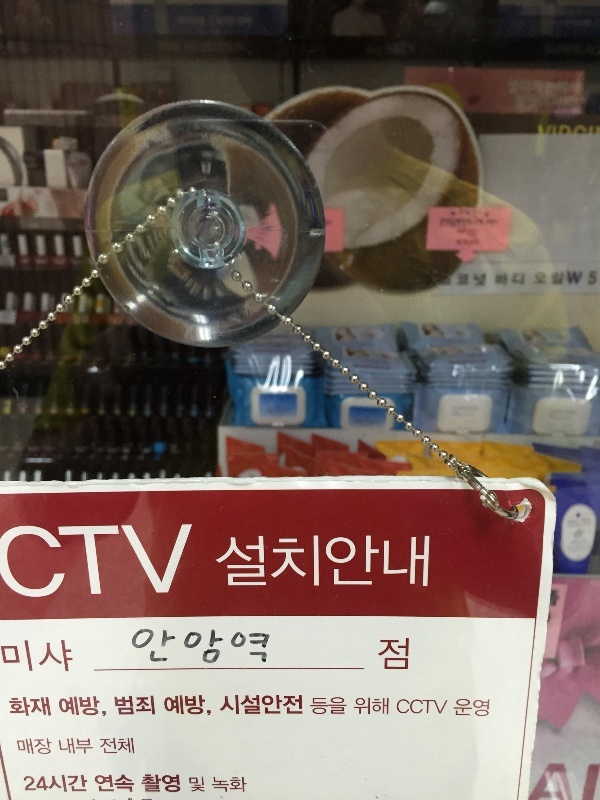text: (1, 522, 16, 605), (17, 522, 32, 605), (33, 522, 48, 605), (49, 522, 64, 605), (65, 522, 80, 605), (81, 522, 96, 605), (97, 522, 112, 605), (113, 522, 128, 605), (129, 522, 144, 605), (145, 522, 160, 605), (161, 522, 176, 605), (177, 522, 192, 605), (241, 533, 256, 597), (257, 533, 272, 597), (273, 533, 288, 597), (289, 533, 304, 597), (305, 533, 320, 597), (321, 533, 336, 597), (337, 533, 352, 597), (353, 533, 368, 597), (369, 533, 384, 597), (385, 533, 400, 597), (401, 533, 416, 597), (417, 533, 432, 597), (145, 625, 160, 672), (161, 625, 176, 672), (177, 625, 192, 672), (193, 625, 208, 672), (209, 625, 224, 672), (225, 625, 240, 672), (241, 625, 256, 672), (257, 625, 272, 672), (229, 533, 240, 597), (1, 637, 16, 678), (17, 637, 32, 678), (33, 637, 48, 678), (49, 637, 64, 678), (545, 122, 560, 161), (561, 122, 576, 161), (577, 122, 592, 161), (577, 517, 592, 556), (385, 636, 400, 671), (65, 637, 77, 678), (136, 625, 144, 672), (129, 694, 144, 718), (177, 695, 192, 719), (193, 695, 208, 719), (225, 694, 240, 718), (241, 694, 256, 718), (257, 694, 272, 718), (273, 694, 288, 718), (289, 694, 304, 718), (567, 517, 576, 556), (465, 697, 480, 720), (97, 772, 112, 795), (113, 772, 128, 795), (577, 267, 592, 290), (114, 694, 128, 718), (193, 522, 197, 605), (65, 696, 80, 718), (81, 696, 96, 718), (145, 774, 160, 796), (161, 774, 176, 796), (81, 737, 97, 757), (465, 403, 481, 423), (401, 636, 410, 671), (17, 737, 32, 758), (33, 737, 48, 758), (33, 774, 48, 795), (49, 774, 64, 795), (65, 774, 80, 795), (513, 78, 528, 99), (529, 78, 544, 99), (545, 78, 560, 99), (561, 78, 576, 99), (163, 695, 176, 719), (17, 697, 32, 717), (33, 697, 48, 717), (321, 697, 336, 717), (369, 697, 384, 717), (401, 697, 416, 717), (417, 697, 432, 717), (433, 697, 448, 717), (65, 737, 80, 757), (113, 736, 128, 756), (561, 404, 576, 424), (225, 775, 240, 794), (465, 270, 480, 289), (497, 270, 512, 289), (537, 122, 544, 161), (593, 122, 600, 161), (513, 270, 527, 289), (97, 696, 109, 718), (145, 694, 156, 718), (337, 697, 350, 717), (355, 697, 368, 717), (99, 736, 112, 756), (451, 403, 464, 423), (545, 271, 560, 288), (565, 267, 576, 290), (211, 775, 224, 794), (548, 404, 560, 424), (481, 697, 491, 720), (193, 776, 205, 794), (449, 217, 464, 231), (465, 217, 480, 231), (481, 217, 496, 231), (455, 697, 464, 720), (465, 208, 480, 221), (23, 774, 32, 795), (81, 774, 90, 795), (577, 78, 586, 99), (129, 772, 137, 795), (311, 697, 320, 717), (465, 237, 480, 249), (534, 271, 544, 288), (451, 208, 464, 221), (593, 267, 600, 290), (8, 697, 16, 717), (241, 775, 249, 794), (456, 270, 464, 289), (481, 270, 489, 289), (380, 636, 384, 671), (438, 217, 448, 231), (58, 696, 64, 718), (506, 78, 512, 99), (209, 695, 214, 719), (58, 737, 64, 757), (129, 736, 135, 756), (454, 237, 464, 249), (481, 208, 490, 221), (177, 774, 182, 796), (49, 737, 54, 758), (140, 774, 144, 796), (385, 697, 389, 717), (577, 404, 581, 424), (188, 776, 192, 794), (561, 271, 565, 288), (433, 533, 434, 597), (49, 697, 52, 717), (273, 625, 274, 672), (94, 772, 96, 795), (497, 217, 500, 231), (398, 697, 400, 717), (593, 517, 594, 556), (494, 270, 496, 289), (481, 237, 483, 249), (449, 697, 450, 717)
